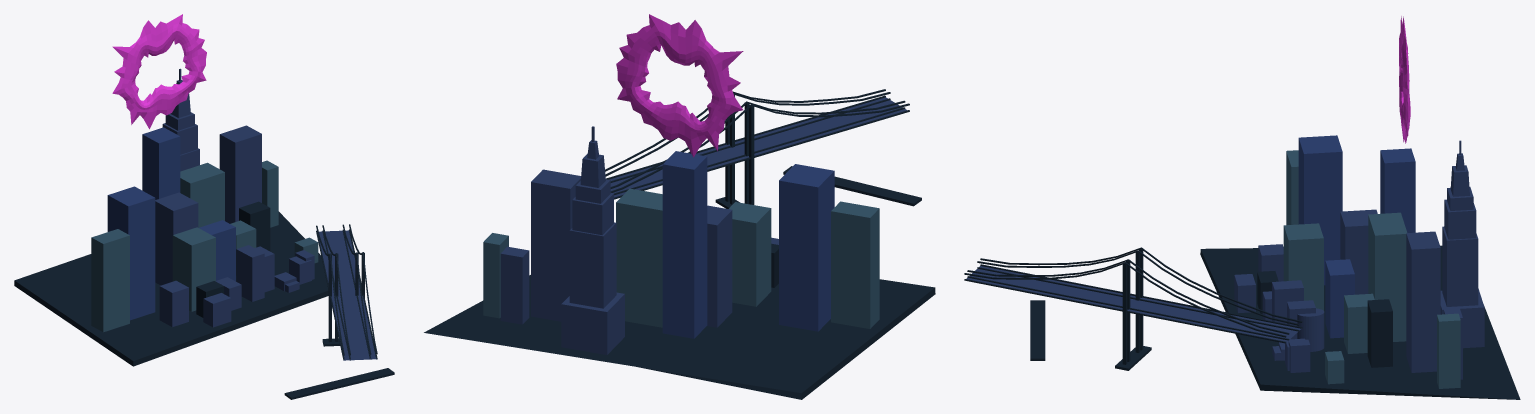
The model's file is cityscene.glb.
The picture shows the model from 3 angles, left to right: view 1: azimuth 30°, elevation 25°; view 2: azimuth 150°, elevation 25°; view 3: azimuth 270°, elevation 25°; orthographic projection. The views are drawn at different scales.
Parts seen in each view (by area): view 1: Plane.001, Portal, Cube.009, Cube.007, Plane, Cube.017, Cube.037, Cube.015, Cube.012, Cube.011, Cube.019, Cube.010 (+20 smaller); view 2: Plane.001, Portal, Cube.009, Cube.037, Cube.011, Cube.007, Cube.017, Cube.015, Plane, Cube.024, Cube.023, Cube.012 (+12 smaller); view 3: Plane.001, Cube.017, Cube.009, Plane, Cube.011, Cube.015, Cube.024, Cube.037, Cube.012, Cube.010, Cube.035, Cube.016 (+21 smaller).
Part boxes in pixels (x1,y1,x2,y2): Plane.001: (14,211,328,366); Portal: (112,14,206,129); Cube.009: (107,186,155,320); Cube.007: (91,229,129,332); Plane: (319,230,377,360); Cube.017: (219,125,261,223); Cube.037: (142,127,180,199); Cube.015: (172,227,215,311); Cube.012: (155,192,198,285); Cube.011: (180,162,224,227); Cube.019: (236,245,264,301); Cube.010: (199,220,235,281); Plane.001: (424,275,935,399); Portal: (616,14,743,157); Cube.009: (779,164,834,331); Cube.037: (662,151,707,338); Cube.011: (616,188,662,327); Cube.007: (831,201,879,328); Cube.017: (531,169,580,321); Cube.015: (729,202,771,306); Plane: (609,97,906,197); Cube.024: (569,222,616,308); Cube.023: (561,292,624,354); Cube.012: (707,205,732,327); Plane.001: (1200,245,1520,399); Cube.017: (1406,231,1440,372); Cube.009: (1298,135,1342,285); Plane: (966,266,1301,342); Cube.011: (1368,212,1407,341); Cube.015: (1283,223,1323,310); Cube.024: (1442,226,1478,306); Cube.037: (1380,148,1415,232); Cube.012: (1340,209,1377,294); Cube.010: (1325,259,1354,338); Cube.035: (1437,313,1460,388); Cube.016: (1367,299,1392,367).
Bounding box in the file's own units: 18.73 × 17.02 × 28.45.
